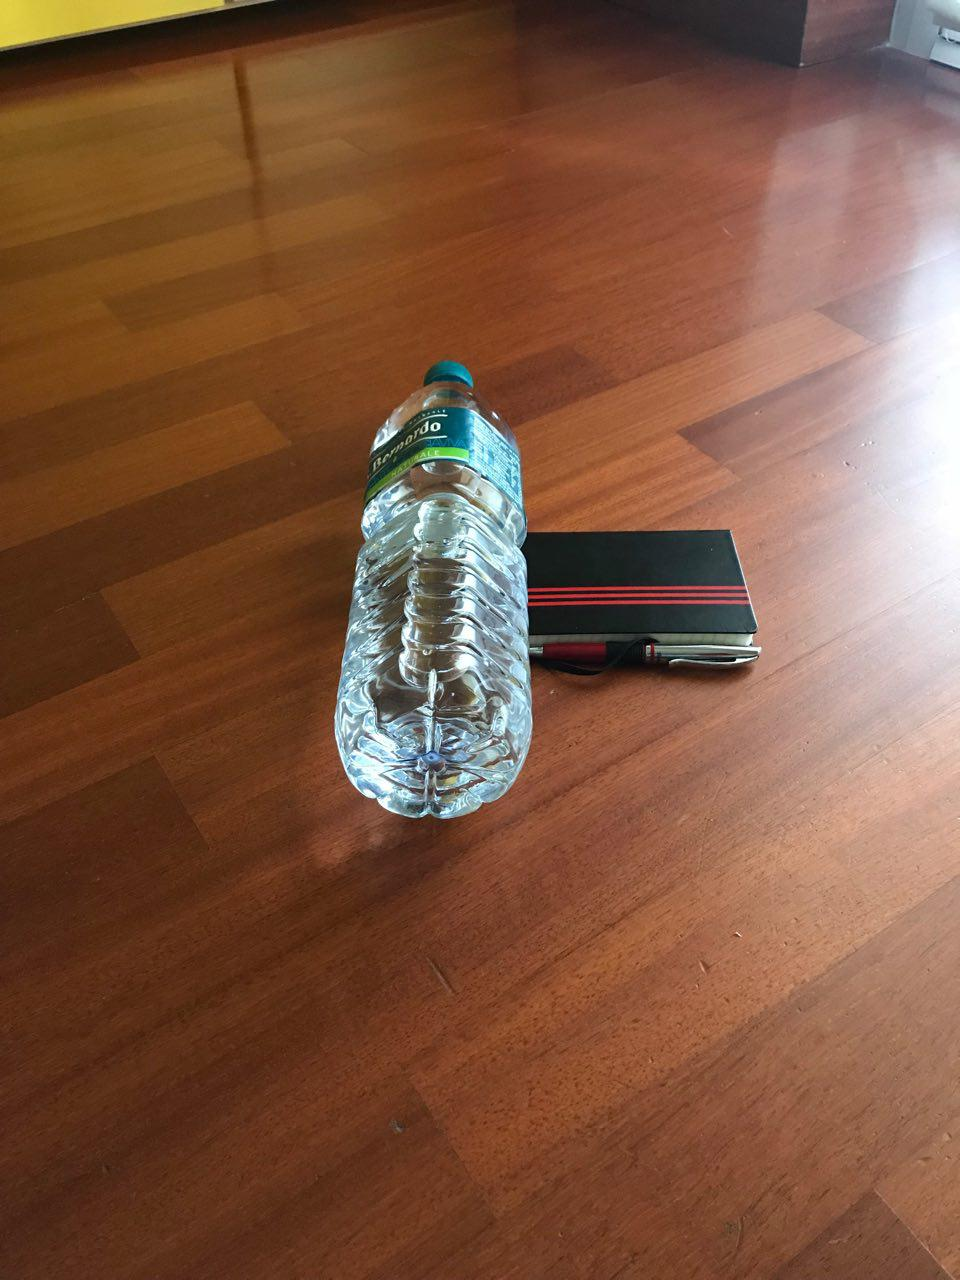san_bernardo: (331, 358, 535, 824)
